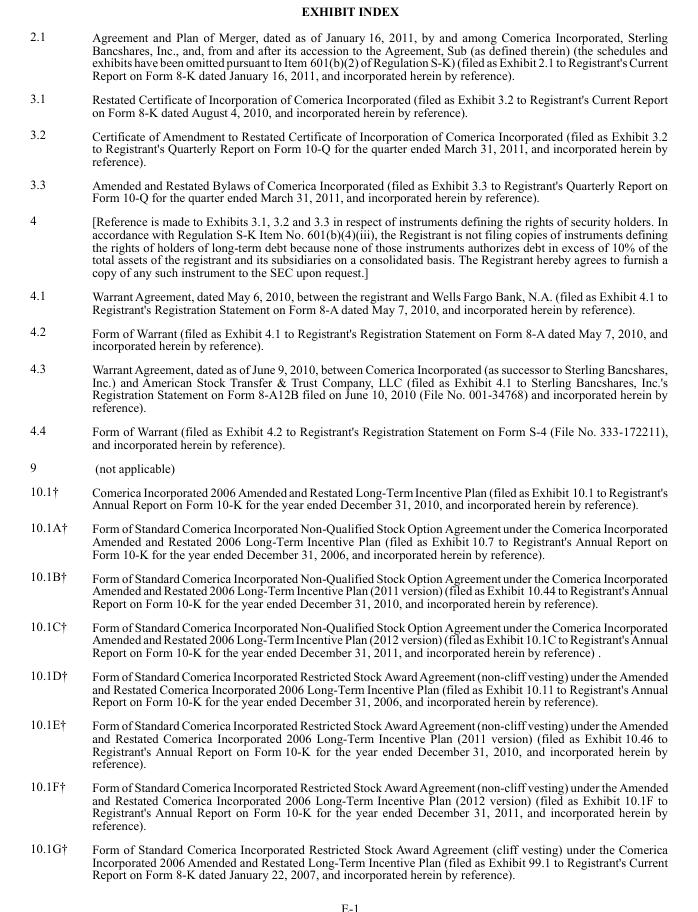table: (29, 28, 667, 880)
table column: (78, 28, 667, 880), (29, 28, 78, 880)
table row: (29, 208, 667, 283), (29, 356, 667, 418), (29, 712, 667, 774), (29, 774, 667, 836), (29, 28, 667, 86), (29, 122, 667, 172), (29, 613, 667, 663), (29, 515, 667, 564), (29, 564, 667, 613), (29, 663, 667, 712), (29, 836, 667, 880), (29, 319, 667, 356), (29, 478, 667, 515), (29, 86, 667, 122), (29, 172, 667, 208), (29, 283, 667, 319), (29, 418, 667, 454), (29, 454, 667, 478)
